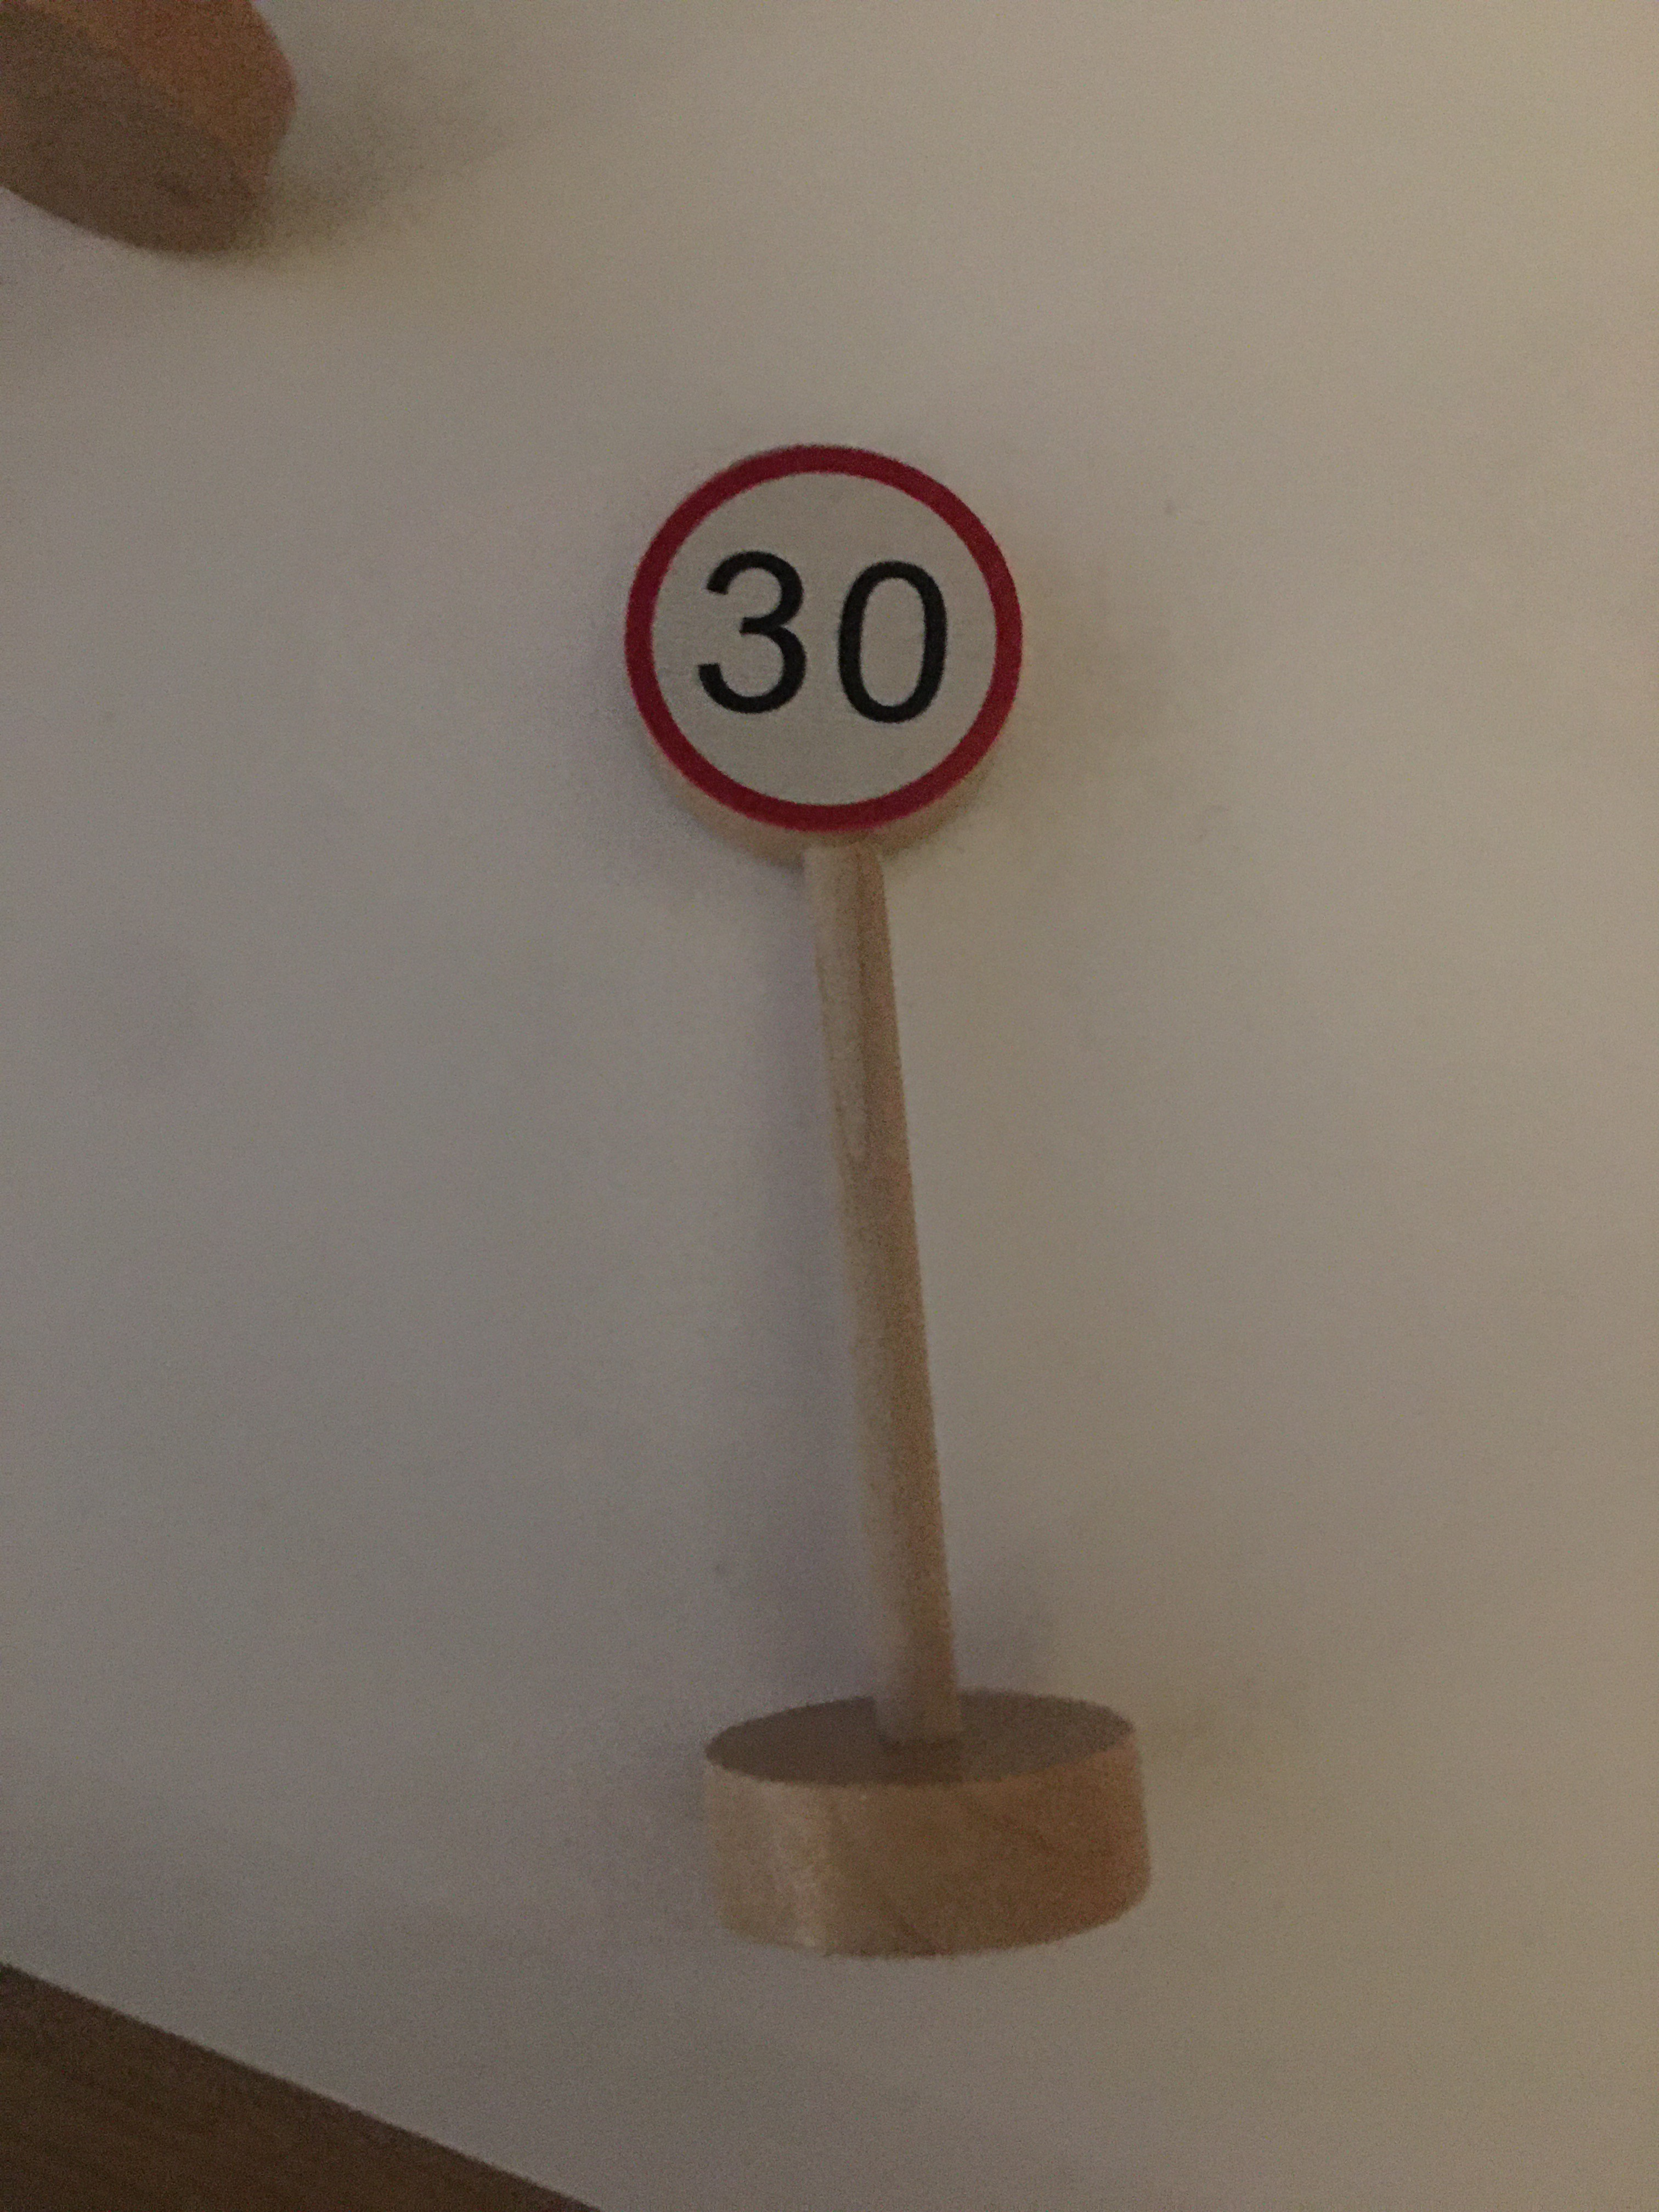Traffic_Sign_30: (617, 456, 1026, 846)
